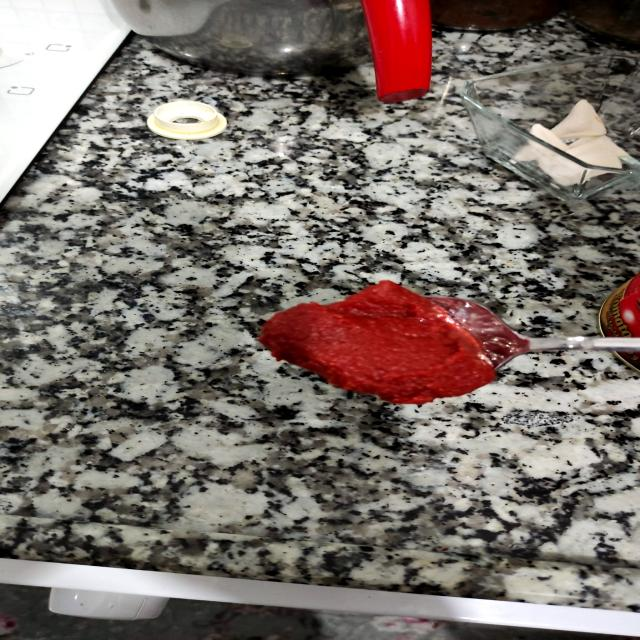tomato paste: (217, 261, 555, 419)
